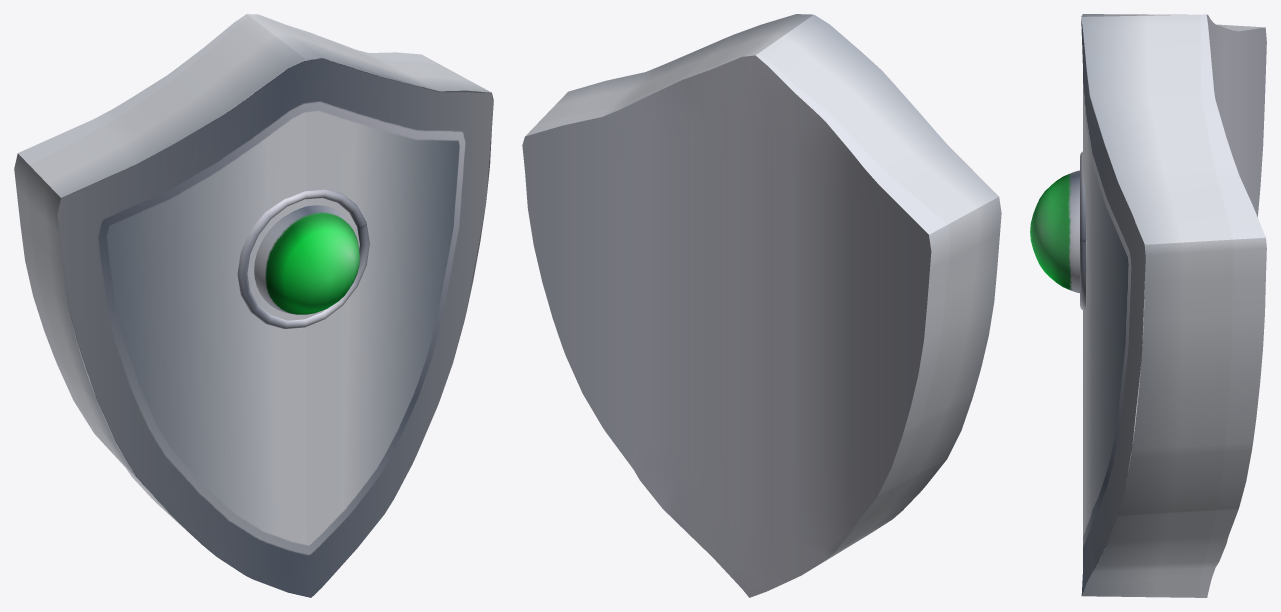
File: shield.fbx
The picture shows the model from 3 angles, left to right: view 1: azimuth 30°, elevation 25°; view 2: azimuth 150°, elevation 25°; view 3: azimuth 270°, elevation 25°; orthographic projection. The views are drawn at different scales.
Parts seen in each view (by area): view 1: pTorus2; view 2: pTorus2; view 3: pTorus2.
Part boxes in pixels (box(x1,y1,x2,y2)): pTorus2: box(14, 14, 493, 597); pTorus2: box(522, 14, 1001, 597); pTorus2: box(1030, 14, 1266, 597).
Size of the model in its own units: 1.89 by 2.26 by 0.8349.
